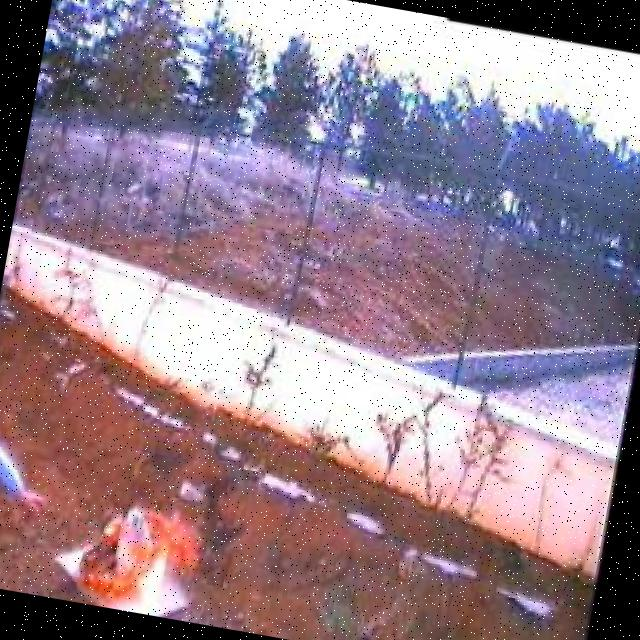fire: (74, 488, 218, 624)
